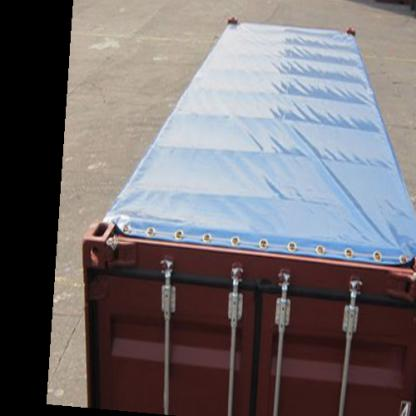Damage: (84, 235, 137, 276), (382, 269, 416, 309), (248, 268, 274, 297)
